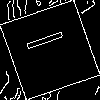I: (25, 24, 74, 53)
